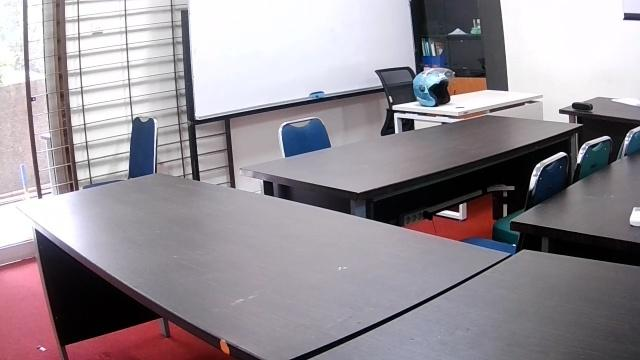Kursi: (81, 115, 158, 190)
Meja: (14, 171, 511, 359), (237, 113, 583, 215), (391, 87, 544, 133)
Whiteboard: (184, 0, 417, 121)
